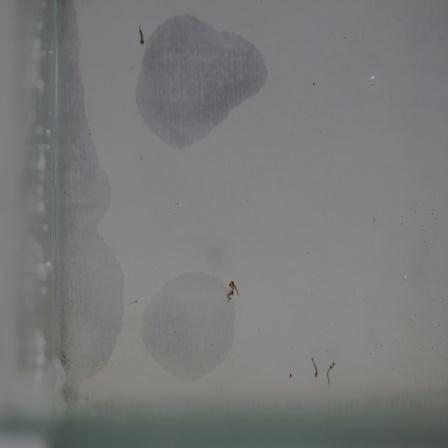Jentik-Nyamuk: (307, 352, 339, 387), (223, 276, 242, 305), (133, 23, 149, 49)
